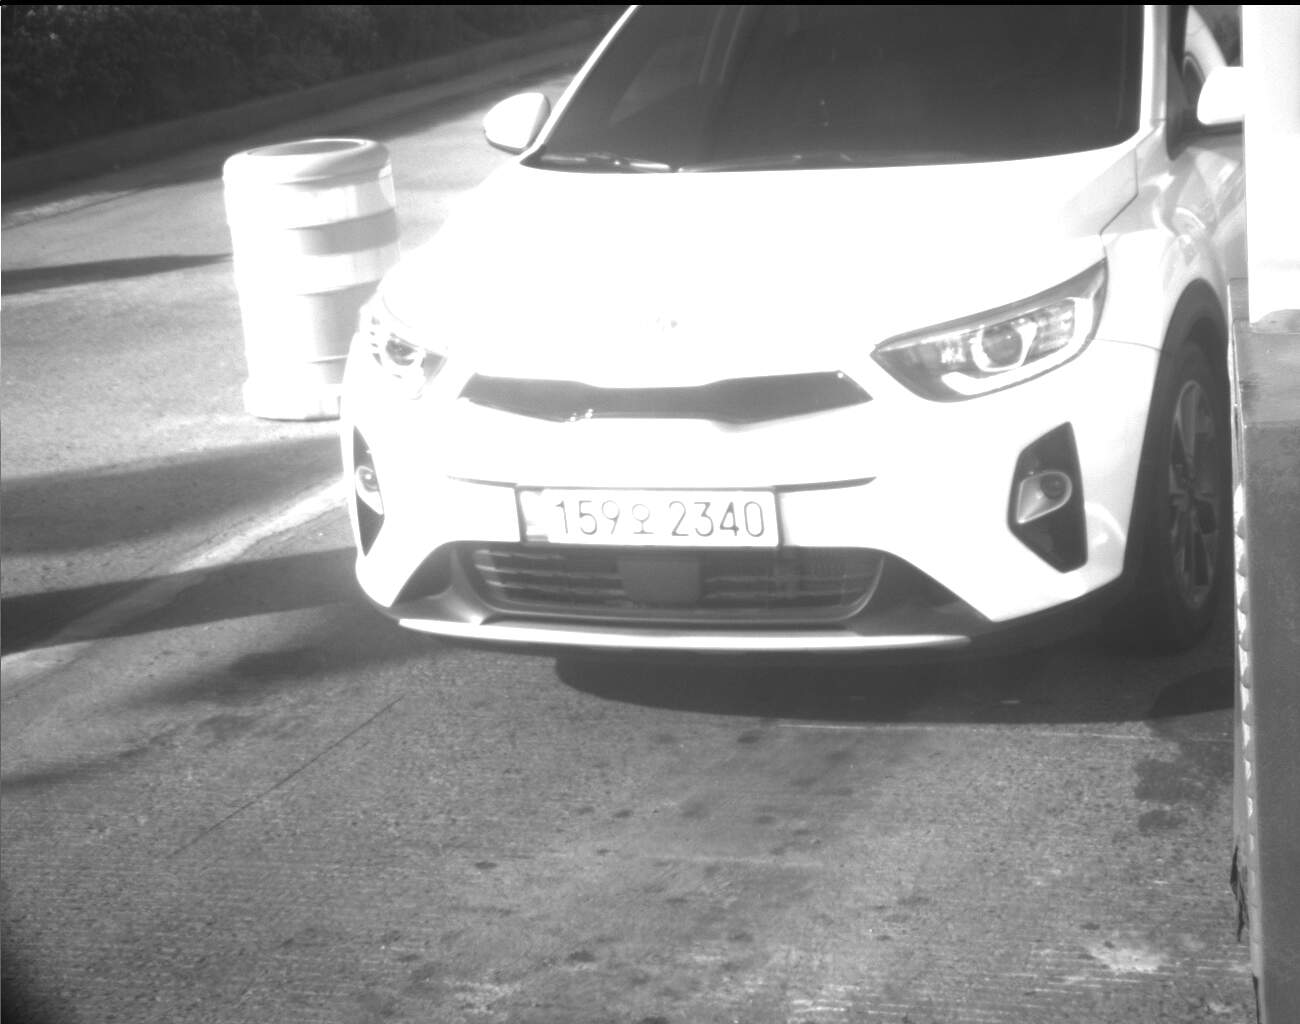car: (335, 1, 1237, 667)
plate: (512, 484, 787, 553)
